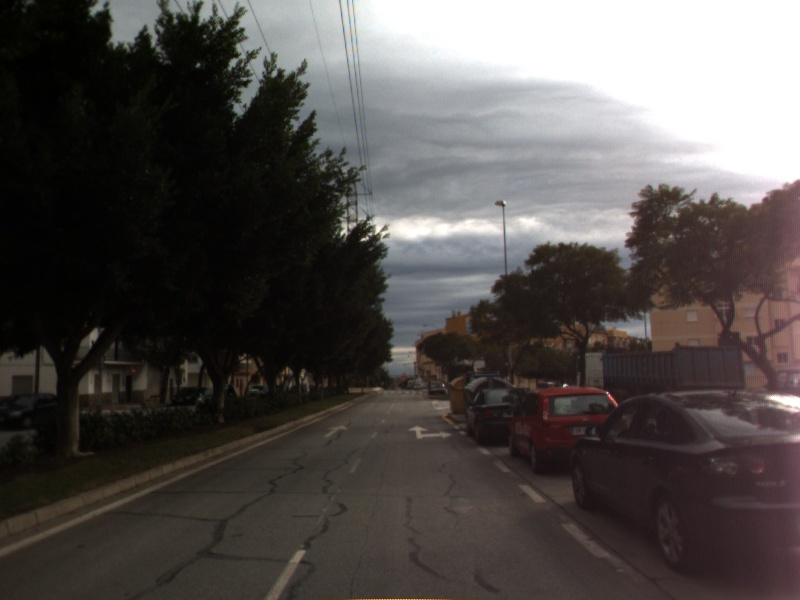STRAIGHT: (321, 422, 350, 440)
STRAIGHT_RIGHT: (406, 423, 455, 441)
